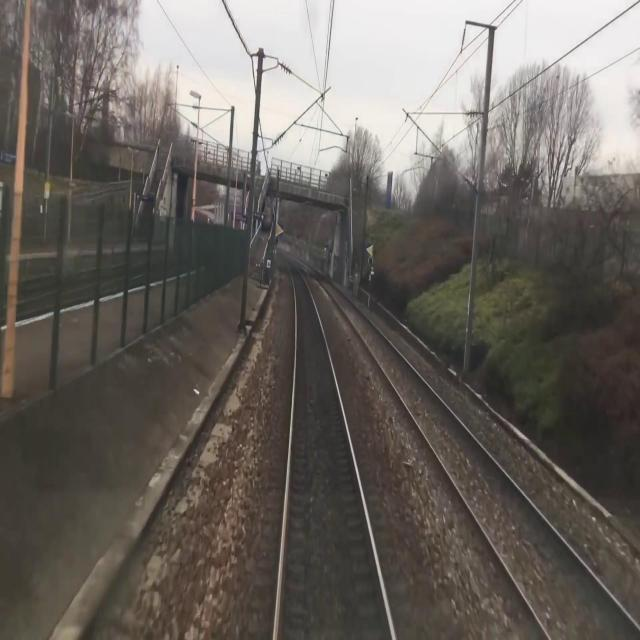rail-track: (277, 263, 392, 639)
